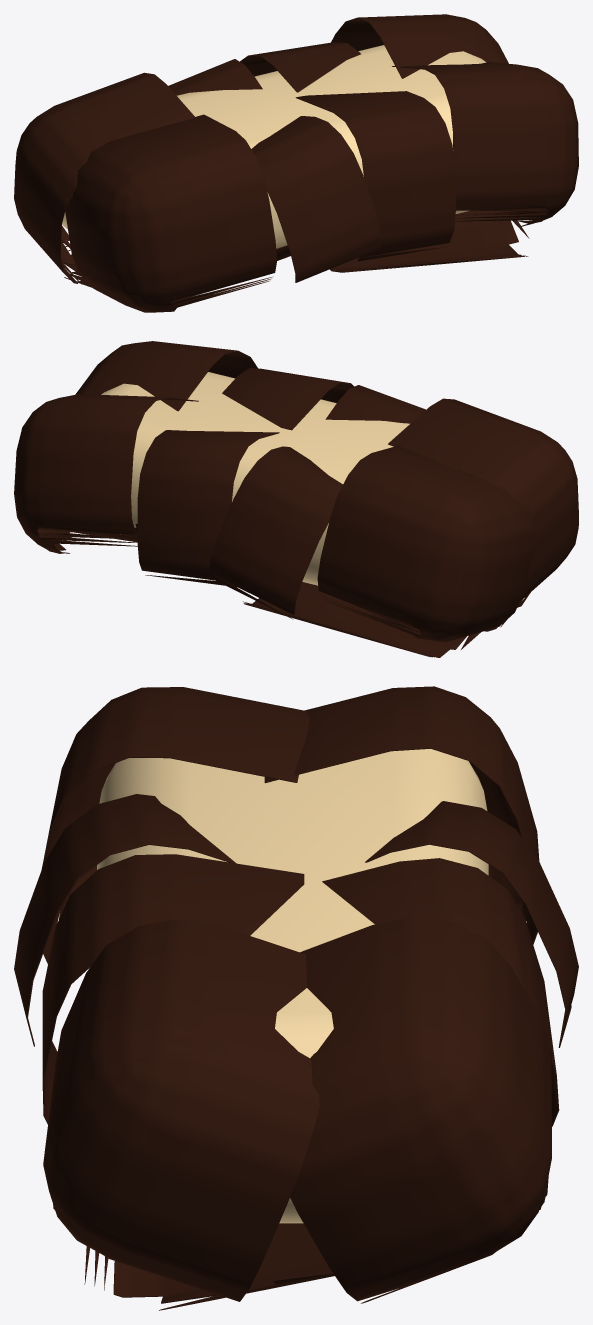
Rendered from Interactive_Chocolate_Capsule_ThinShell.fbx.
The picture shows the model from 3 angles, top to bottom: view 1: azimuth 30°, elevation 25°; view 2: azimuth 150°, elevation 25°; view 3: azimuth 270°, elevation 25°; orthographic projection. The views are drawn at different scales.
Visible parts, largest first — view 1: ShellPiece_01, ShellPiece_07, ShellPiece_05, ShellPiece_02, ShellPiece_03, Cream_Inside, ShellPiece_08, ShellPiece_10, ShellPiece_06, ShellPiece_04, ShellPiece_09; view 2: ShellPiece_02, ShellPiece_08, ShellPiece_01, ShellPiece_04, ShellPiece_06, Cream_Inside, ShellPiece_07, ShellPiece_09, ShellPiece_05, ShellPiece_03; view 3: ShellPiece_07, ShellPiece_08, Cream_Inside, ShellPiece_01, ShellPiece_05, ShellPiece_02, ShellPiece_06, ShellPiece_03, ShellPiece_04, ShellPiece_10.
Part boxes in pixels (box(x1,y1,x2,y2)): ShellPiece_01: box(65, 114, 276, 312); ShellPiece_07: box(392, 62, 578, 226); ShellPiece_05: box(295, 91, 455, 261); ShellPiece_02: box(14, 72, 195, 284); ShellPiece_03: box(251, 116, 381, 282); Cream_Inside: box(62, 45, 486, 248); ShellPiece_08: box(331, 14, 508, 78); ShellPiece_10: box(330, 210, 529, 272); ShellPiece_06: box(240, 42, 360, 92); ShellPiece_04: box(168, 59, 262, 95); ShellPiece_09: box(63, 239, 290, 290); ShellPiece_02: box(317, 445, 535, 642); ShellPiece_08: box(14, 394, 198, 553); ShellPiece_01: box(388, 398, 578, 600); ShellPiece_04: box(208, 446, 342, 619); ShellPiece_06: box(137, 430, 279, 587); Cream_Inside: box(101, 372, 409, 585); ShellPiece_07: box(75, 341, 257, 411); ShellPiece_09: box(243, 582, 531, 657); ShellPiece_05: box(222, 368, 353, 430); ShellPiece_03: box(325, 385, 425, 423); ShellPiece_07: box(43, 919, 319, 1301); ShellPiece_08: box(290, 917, 551, 1303); Cream_Inside: box(97, 749, 488, 1223); ShellPiece_01: box(42, 687, 310, 963); ShellPiece_05: box(42, 854, 304, 1124); ShellPiece_02: box(264, 686, 539, 944); ShellPiece_06: box(322, 858, 559, 1126); ShellPiece_03: box(14, 794, 236, 1046); ShellPiece_04: box(365, 801, 578, 1047); ShellPiece_10: box(84, 1223, 334, 1310).
Size of the model in its own units: 2.05 by 0.7699 by 1.21.
